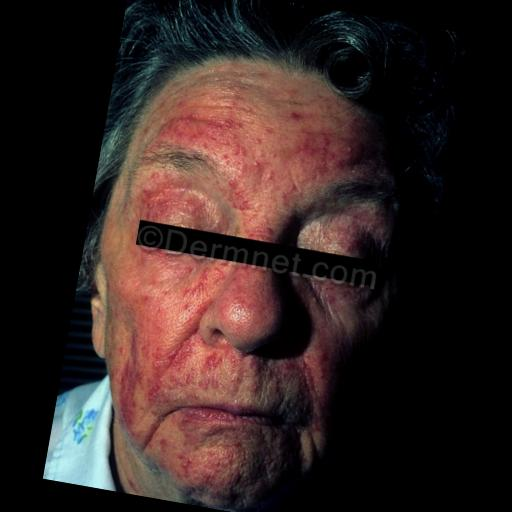Skin_Lesion: (306, 316, 370, 440), (102, 362, 154, 426), (168, 103, 237, 151), (267, 203, 309, 255), (171, 277, 221, 317), (306, 136, 350, 178), (224, 173, 262, 217), (342, 220, 374, 270), (344, 286, 374, 325), (202, 336, 226, 376), (285, 102, 311, 130), (250, 126, 272, 154), (280, 358, 302, 378), (136, 253, 150, 274), (182, 456, 194, 477)
